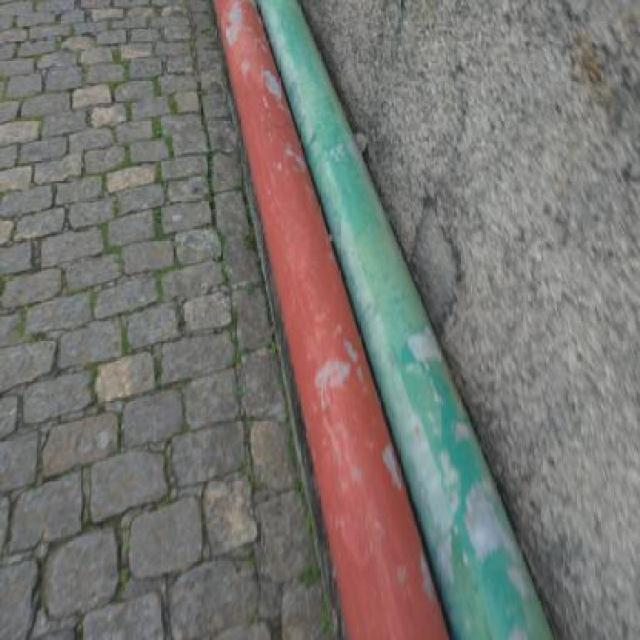gas: (258, 1, 553, 637), (214, 0, 452, 640)
